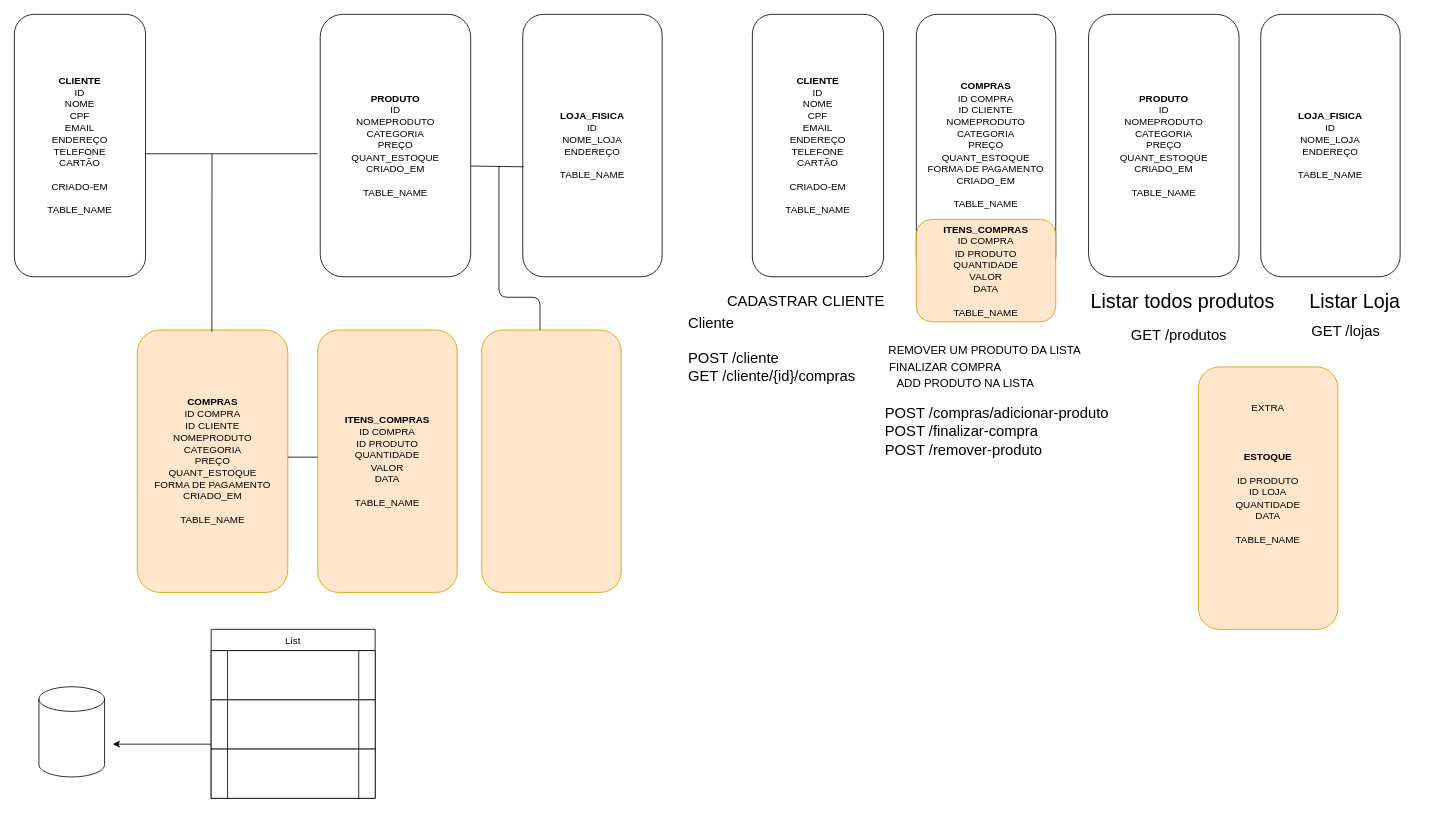
This 1439x813 diagram has some shape labels left out. The shapes that lost their labels are listed below. From the top down, each one's centre as x and y in pixels, then its label:
the point at 551,460: ESTOQUE ID COMPRA ID PRODUTO ID LOJA QUANTIDADE DATA TABLE_NAME
the point at 71,731: SQL
